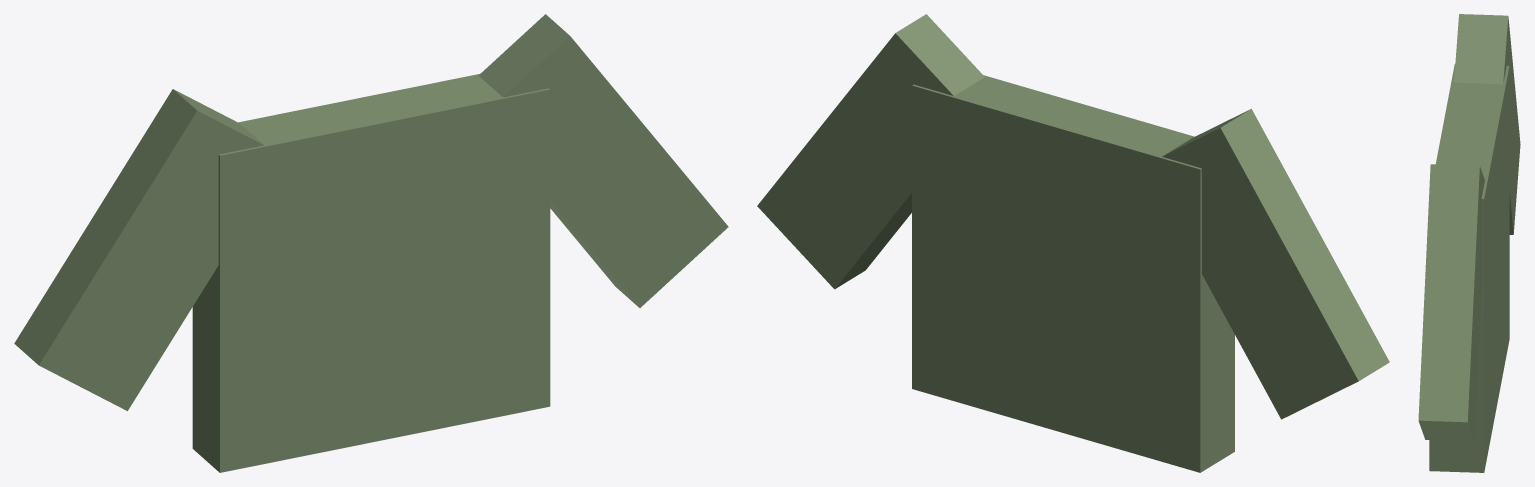
The model's file is sweatshirt-003.v1.glb.
The picture shows the model from 3 angles, left to right: view 1: azimuth 30°, elevation 25°; view 2: azimuth 150°, elevation 25°; view 3: azimuth 270°, elevation 25°; orthographic projection. The views are drawn at different scales.
Parts seen in each view (by area): view 1: Garment; view 2: Garment; view 3: Garment.
Boxes of the visible parts, x1,y1,x2,y2 form: Garment: (14,14,728,472); Garment: (757,14,1389,472); Garment: (1418,14,1520,472).
Bounding box in the file's own units: 2.41 × 1.27 × 0.3713.
